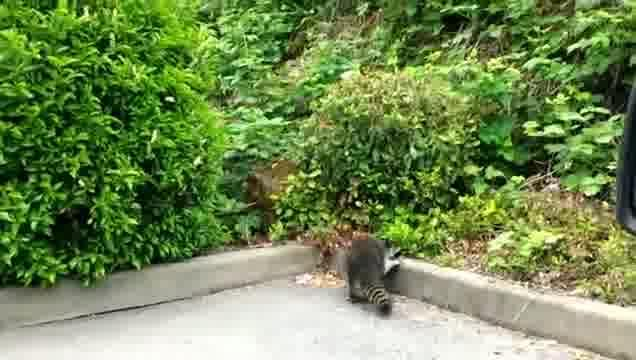raccoon: (344, 237, 403, 318)
